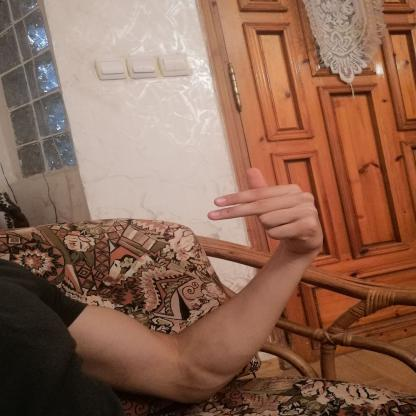GHAYN: (199, 159, 330, 261)
